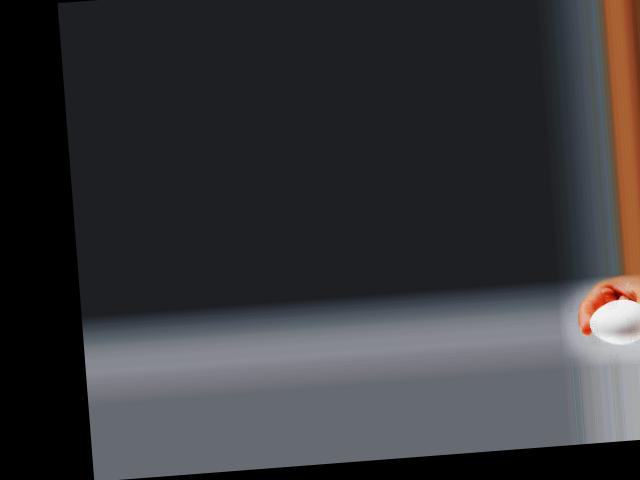egg: (587, 299, 640, 345)
